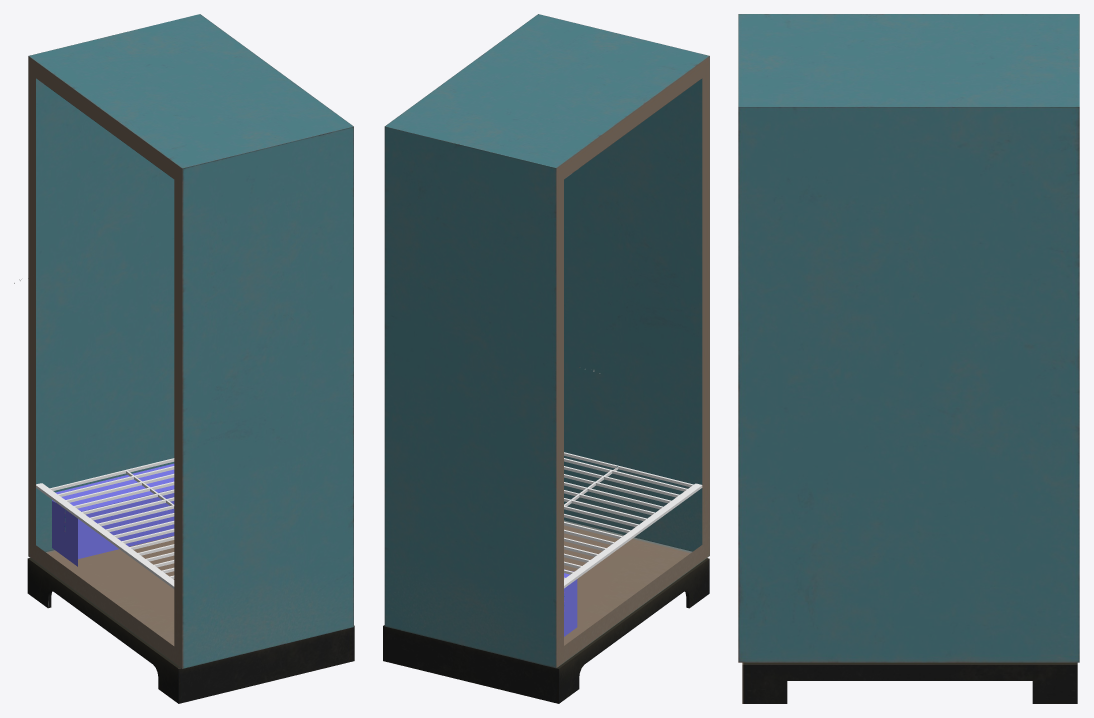
3 renders of one model, left to right at view 1: azimuth 30°, elevation 25°; view 2: azimuth 150°, elevation 25°; view 3: azimuth 270°, elevation 25°, orthographic. The views are drawn at different scales.
Parts seen in each view (by area): view 1: pCube211, square, Box033_Chrome_0.001; view 2: pCube211, Box033_Chrome_0.001, square; view 3: pCube211.
Boxes of the visible parts, <box> form: pCube211: <box>14,14,354,703</box>; square: <box>52,463,174,566</box>; Box033_Chrome_0.001: <box>36,458,174,588</box>; pCube211: <box>383,14,709,703</box>; Box033_Chrome_0.001: <box>564,452,702,588</box>; square: <box>564,569,577,636</box>; pCube211: <box>738,14,1079,703</box>.
Bounding box in the file's own units: 54.32 × 137 × 71.18.
3 materials, 2 textured.
